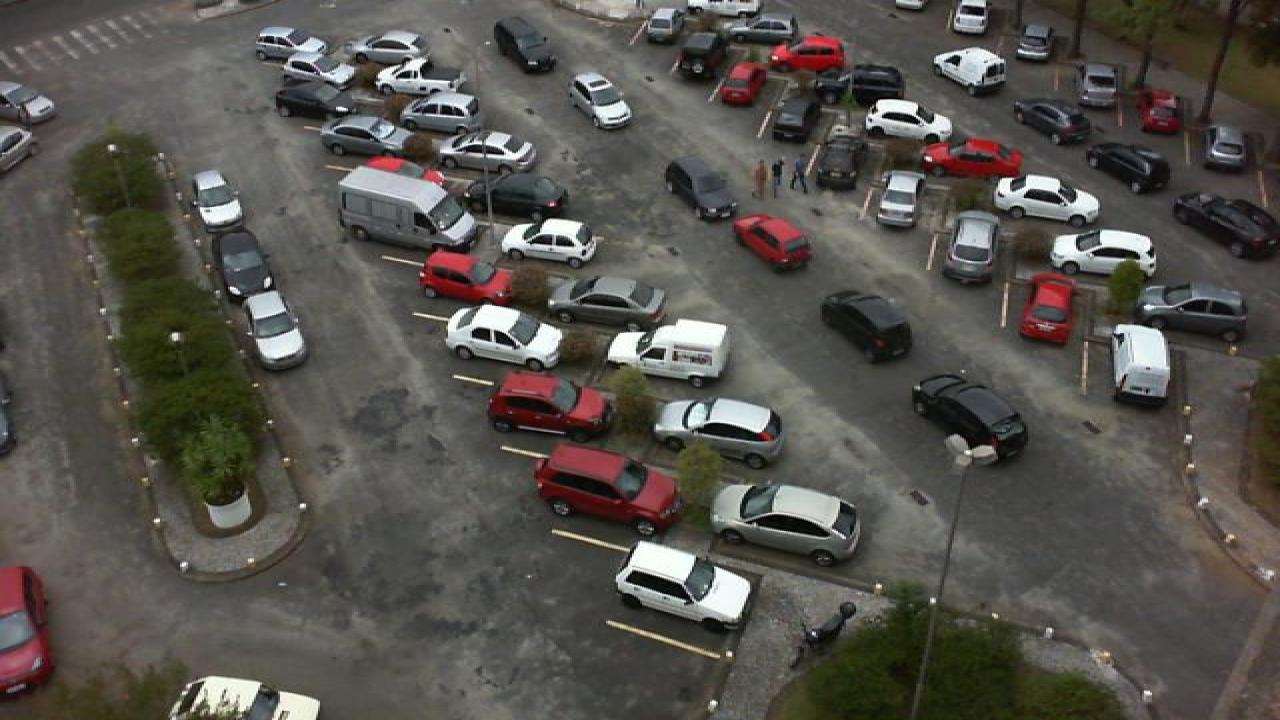Car: (532, 442, 680, 537), (710, 481, 866, 570), (614, 540, 756, 632), (908, 372, 1030, 466), (652, 395, 786, 469), (486, 370, 612, 444), (442, 304, 564, 372), (0, 565, 60, 703), (1174, 191, 1280, 261), (816, 289, 916, 363), (166, 675, 324, 720), (544, 274, 668, 330), (1138, 282, 1250, 344), (232, 290, 308, 371), (992, 176, 1102, 229), (660, 155, 744, 223), (1050, 230, 1160, 280), (418, 250, 516, 306), (498, 217, 600, 269), (730, 213, 814, 272), (436, 130, 538, 178), (476, 172, 570, 224), (1086, 140, 1172, 194), (942, 209, 1002, 286), (1018, 274, 1082, 346), (918, 137, 1026, 179), (208, 232, 274, 298), (566, 72, 634, 133), (316, 115, 412, 158), (862, 98, 954, 142), (1014, 98, 1096, 146), (866, 168, 926, 231), (492, 16, 558, 73), (370, 57, 466, 96), (814, 128, 870, 192), (190, 168, 246, 231), (274, 81, 362, 120), (400, 99, 484, 137), (254, 26, 332, 65), (770, 34, 848, 73), (0, 80, 60, 127), (768, 90, 820, 144), (1198, 123, 1254, 173), (720, 14, 802, 48), (846, 65, 906, 109), (716, 61, 770, 108), (284, 56, 362, 88), (354, 30, 428, 63), (1078, 62, 1124, 110), (1140, 88, 1186, 135), (678, 32, 722, 78), (1014, 25, 1058, 64), (640, 7, 682, 45), (950, 0, 994, 36)
